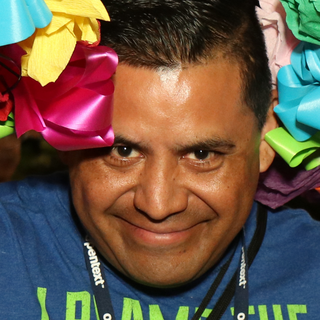eye: (178, 141, 227, 166), (94, 139, 143, 163)
